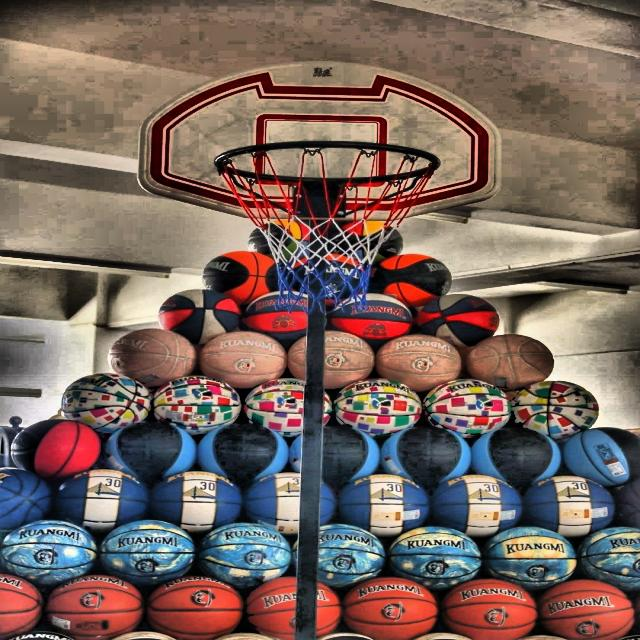board: (0, 520, 100, 584), (106, 521, 198, 582), (541, 581, 635, 640), (352, 578, 441, 634), (446, 581, 534, 637)
rim: (221, 142, 433, 308)
